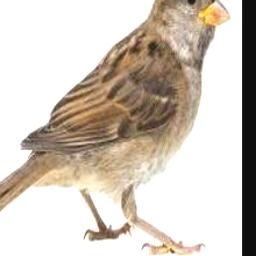Sparrow: (0, 0, 230, 255)
